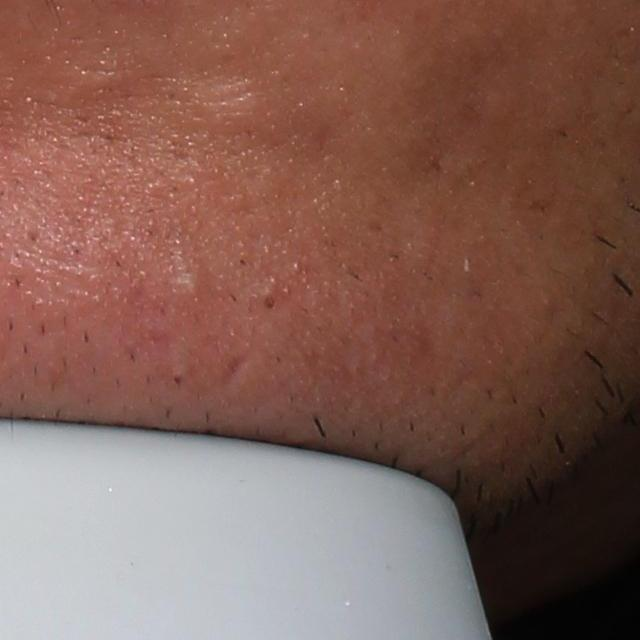atrophic_scar: (150, 70, 251, 129), (214, 352, 250, 396)
